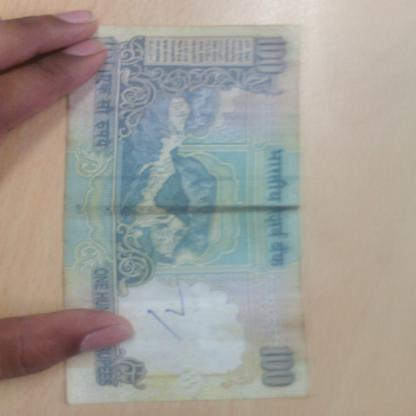Old100Back: (63, 21, 310, 406)
